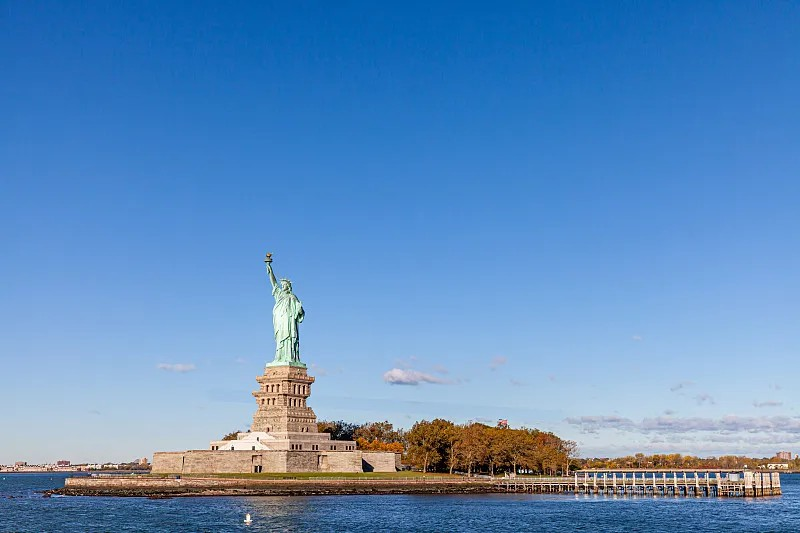SL: (250, 252, 319, 433)
